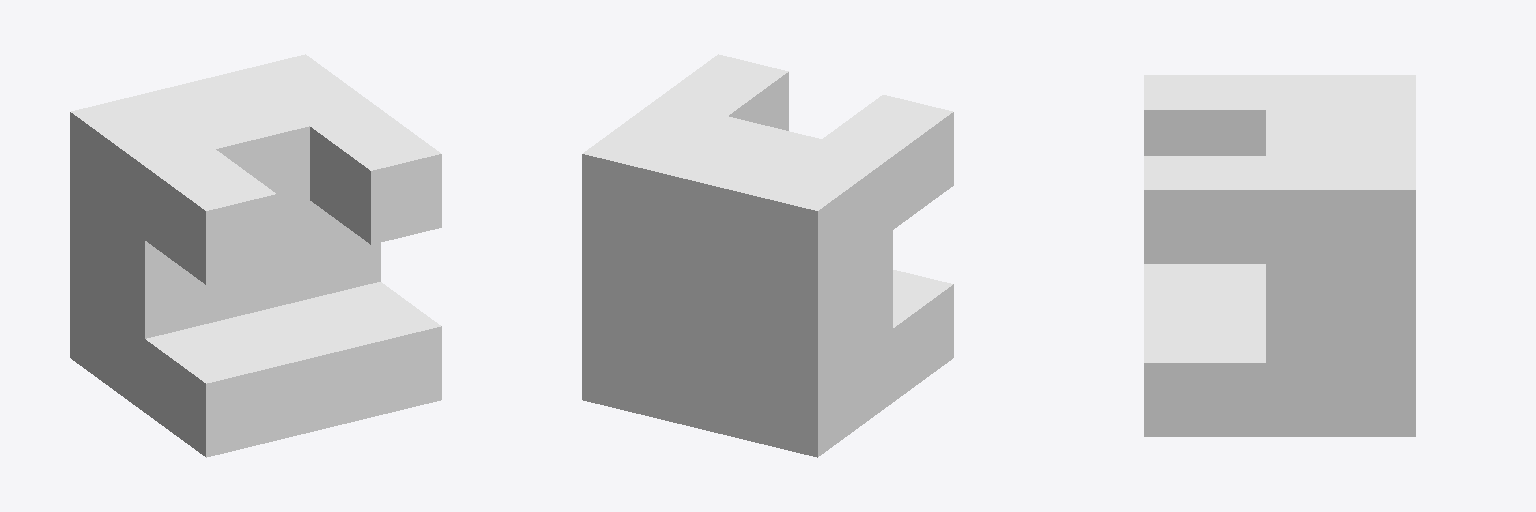
The model's file is t_piece.obj.
The picture shows the model from 3 angles: view 1: azimuth 30°, elevation 25°; view 2: azimuth 150°, elevation 25°; view 3: azimuth 270°, elevation 25°; orthographic projection.
Visible parts, largest first — view 1: t_piece; view 2: t_piece; view 3: t_piece.
Boxes of the visible parts, x1,y1,x2,y2 form: t_piece: [70, 54, 441, 457]; t_piece: [582, 54, 953, 457]; t_piece: [1144, 75, 1415, 436].
Bounding box in the file's own units: 20 × 20 × 20.